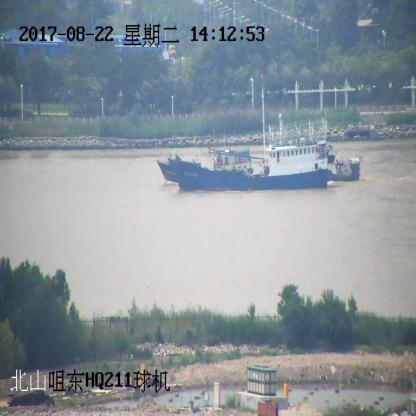Fishing Boat: (160, 74, 333, 189), (158, 143, 252, 181), (328, 153, 361, 184)
